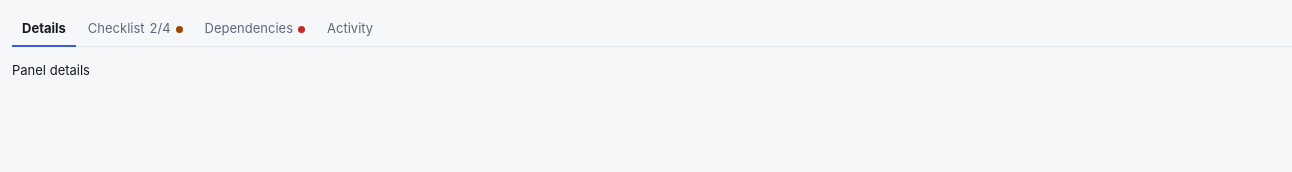
ViewTabs (ARIA tabs) › moves with the arrow keys, wraps, and jumps with Home and End
Later steps or results of the test are not shown.
Click the tab "Details".
click(44, 29)  # box [12, 12, 76, 47]
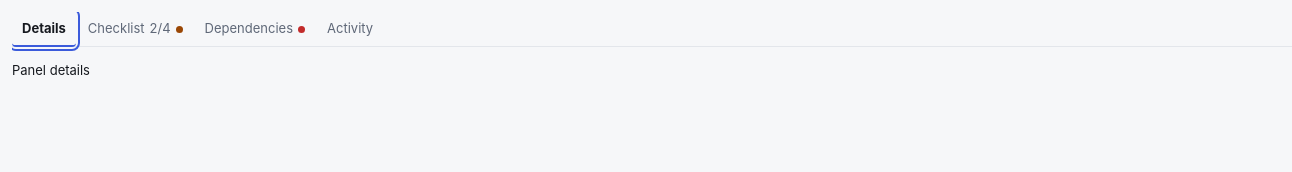
Press Arrowright
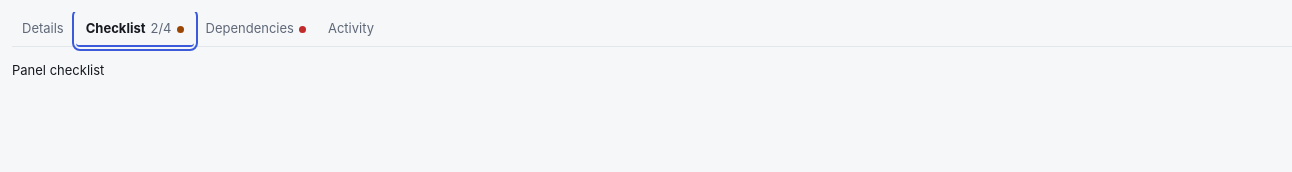
Result: the text "Panel checklist" is shown at [12, 62, 104, 78]
